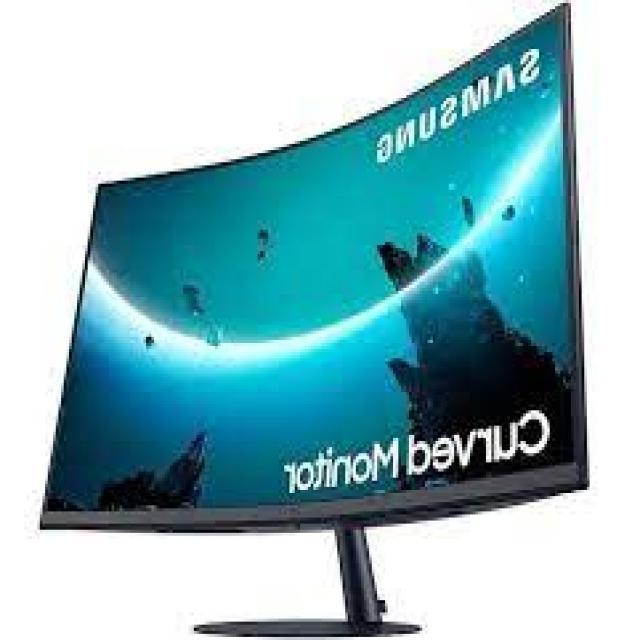monitor: (0, 8, 606, 640)
